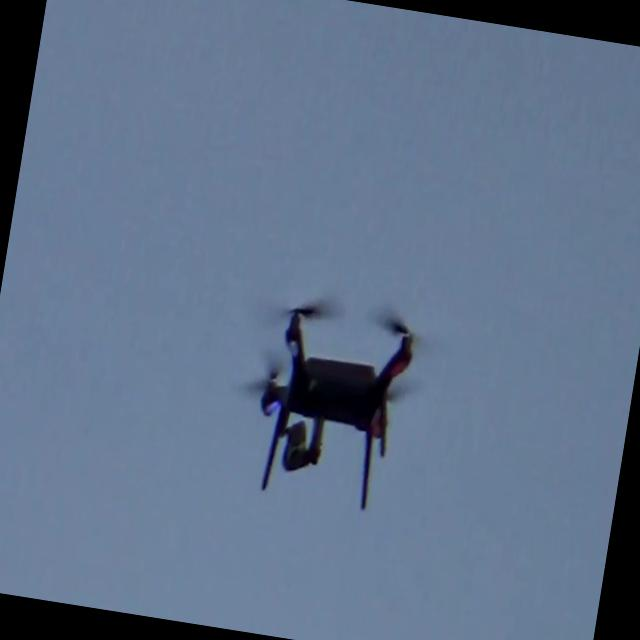drone: (244, 290, 422, 516)
